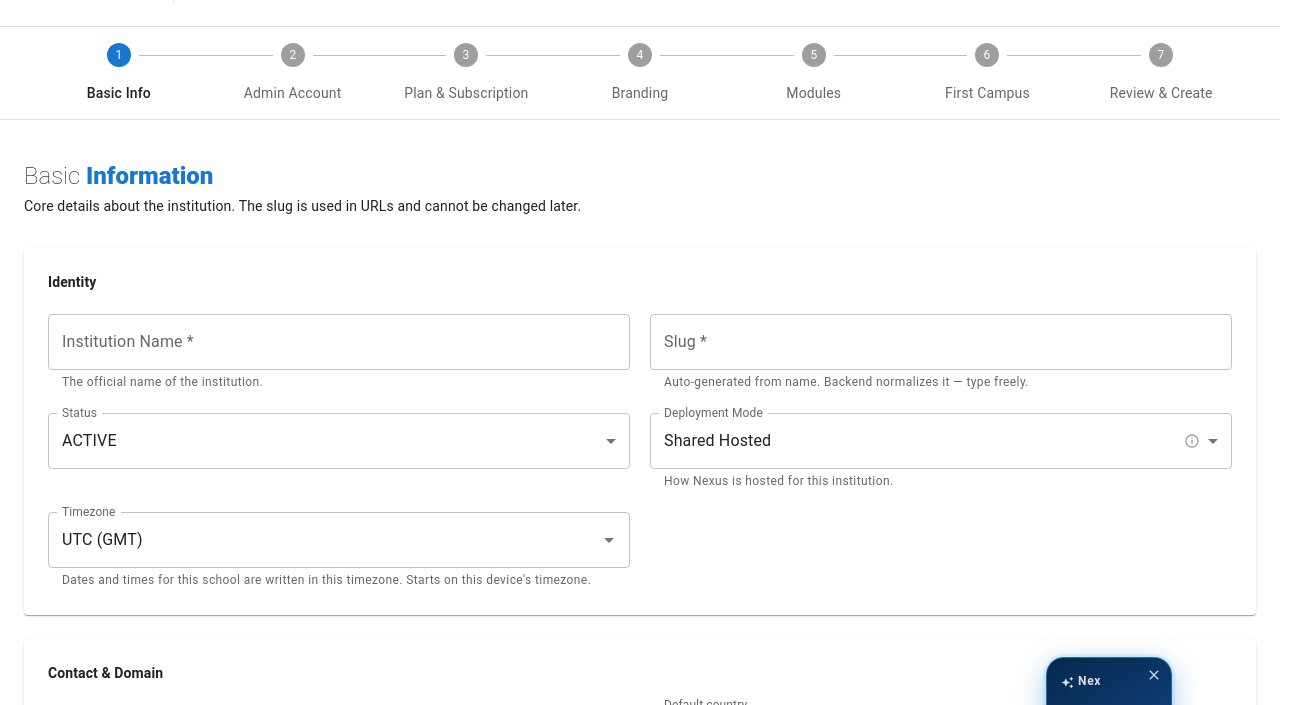
New institution wizard › requires admin name, email and an 8+ char password unless skipped
Type "Green" into the field labelled "Institution Name *" at coordinates (339, 342), box [48,314,630,370]
(page scrolled)
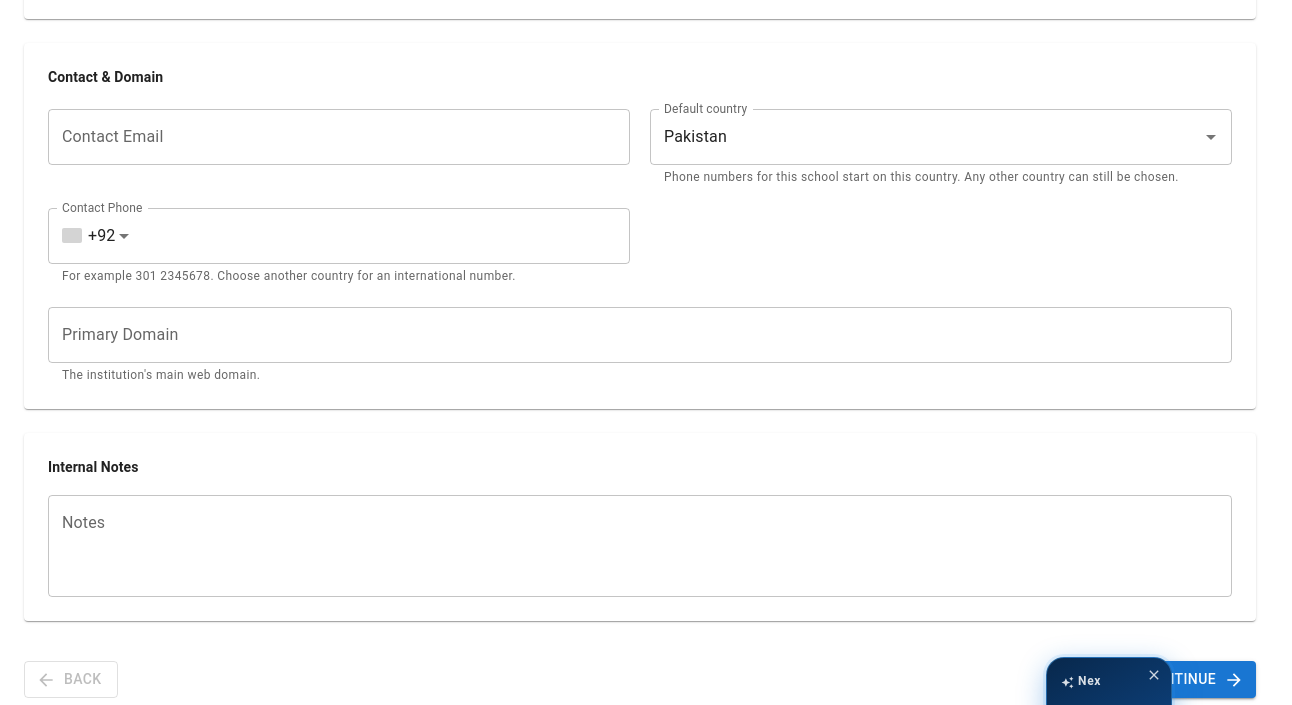
Click the button "Continue" at coordinates (1192, 680), box [1129,661,1256,698]
(page scrolled)
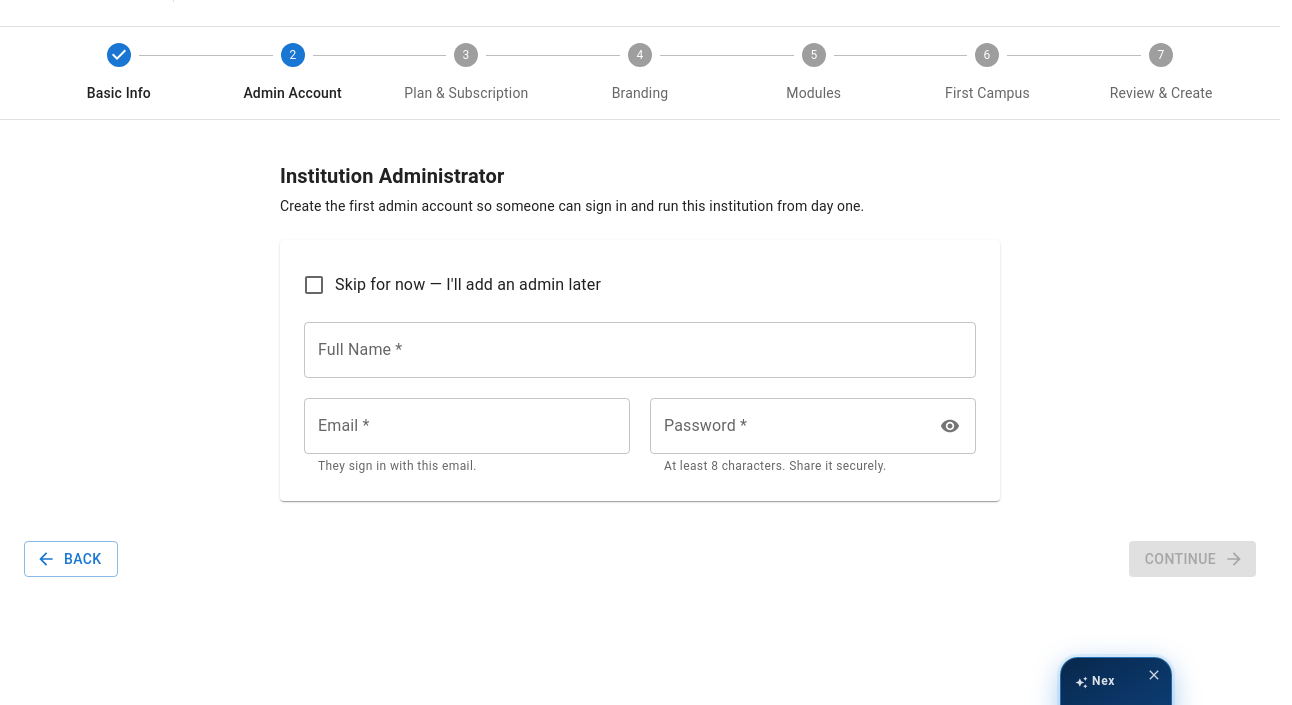
Expected: the heading "Institution Administrator" is shown, [280,164,504,188]
Expected: the button "Continue" is disabled, [1129,541,1256,578]
Type "Ann" into the field labelled "Full Name *" at coordinates (640, 350), box [304,322,976,378]
Type "ann@x.io" into the field labelled "Email *" at coordinates (467, 426), box [304,398,630,454]
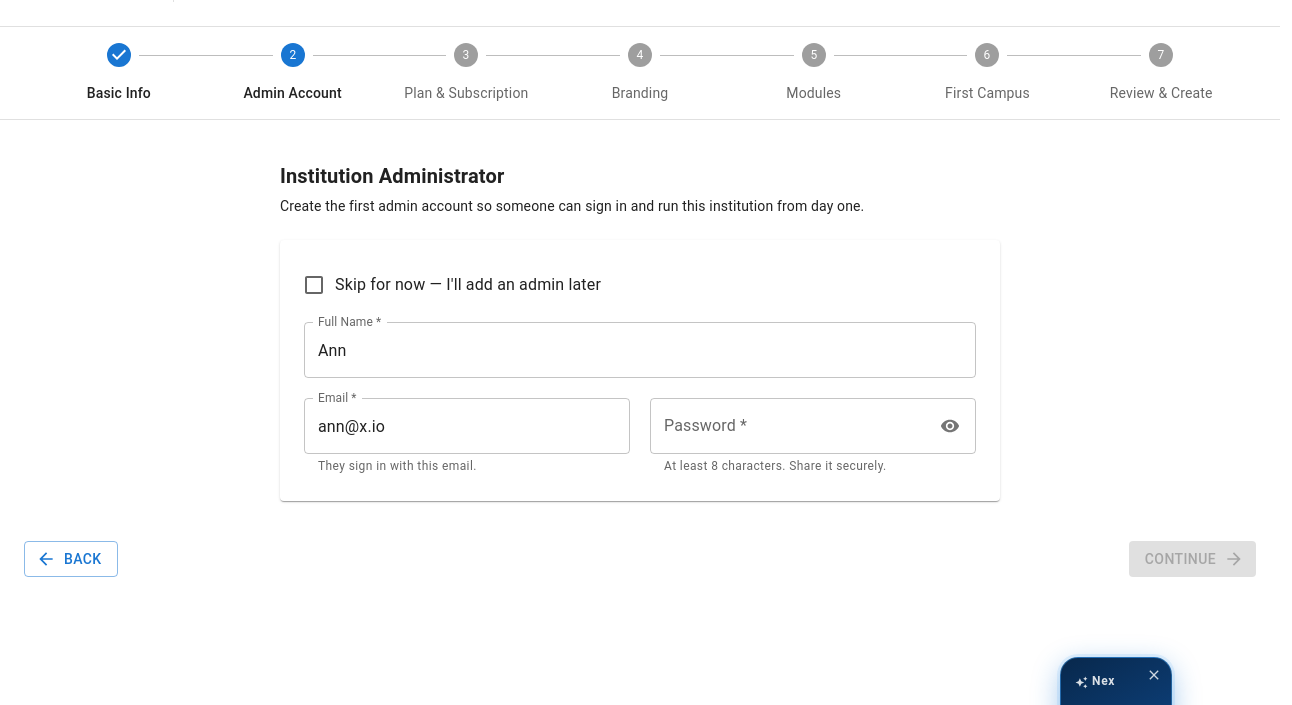
Type "short" into the password field labelled "Password *" at coordinates (788, 426), box [650,398,927,454]
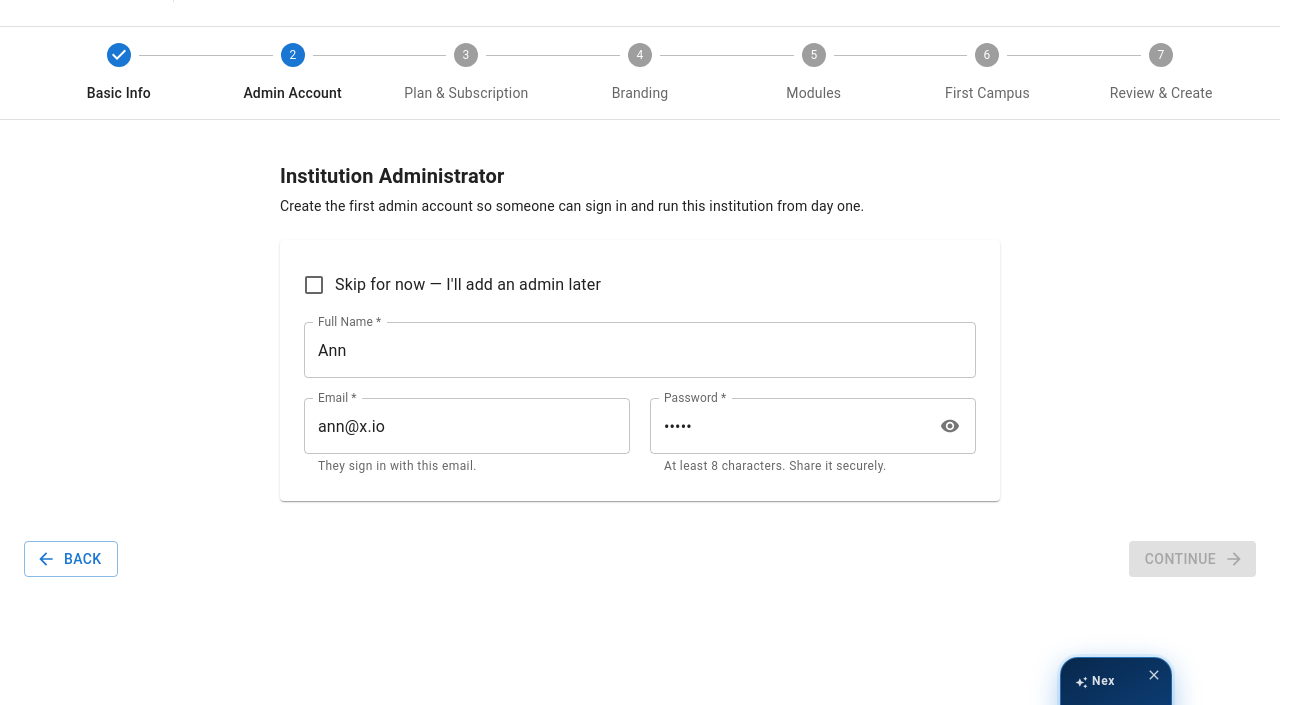
Expected: the button "Continue" is disabled, [1129,541,1256,578]
Type "longenough" into the password field labelled "Password *" at coordinates (788, 426), box [650,398,927,454]
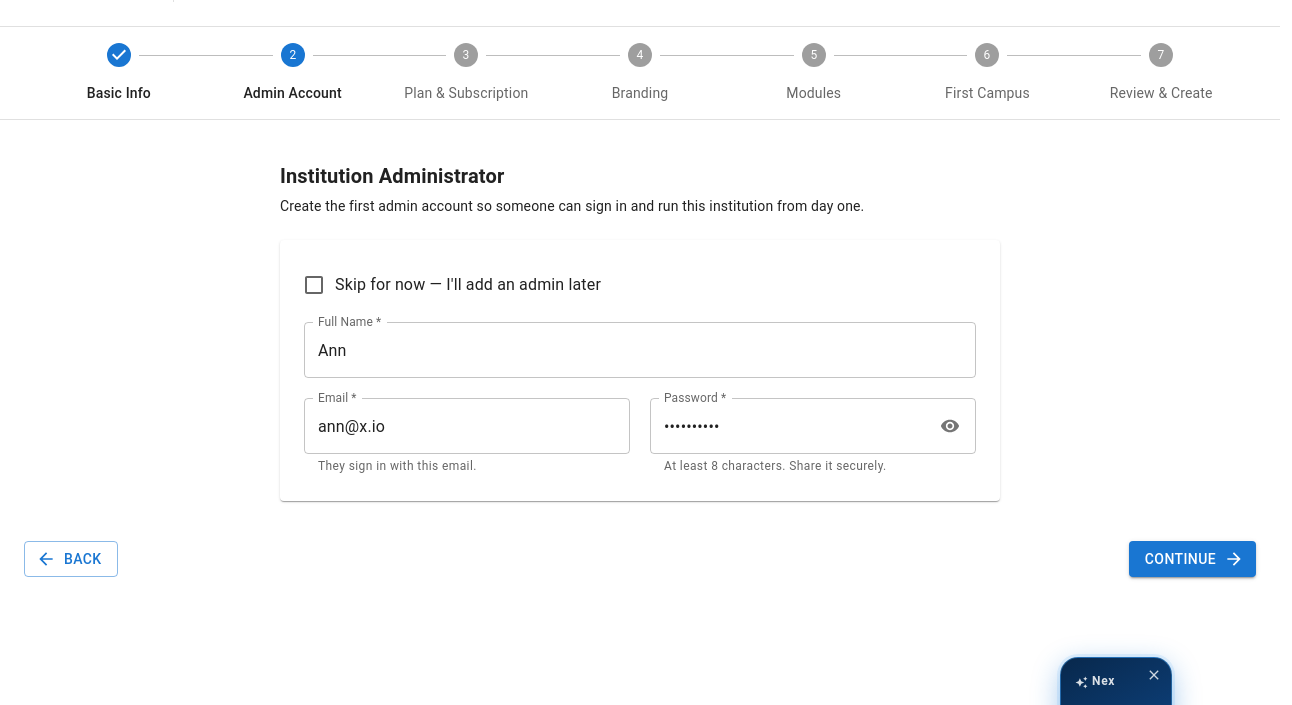
Expected: the button "Continue" is enabled, [1129,541,1256,578]
Click the checkbox at coordinates (452, 285), box [302,273,601,297]
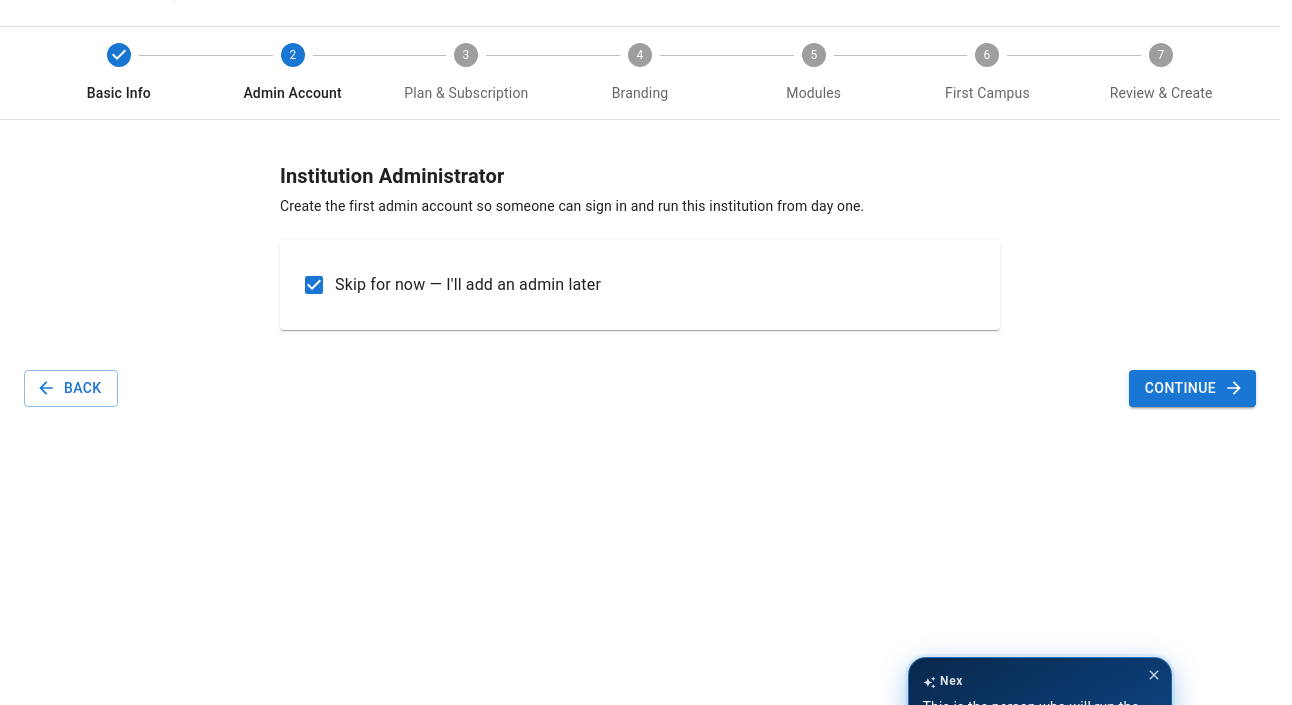
Expected: the button "Continue" is enabled, [1129,370,1256,407]
Expected: the label labelled "Full Name" is gone
